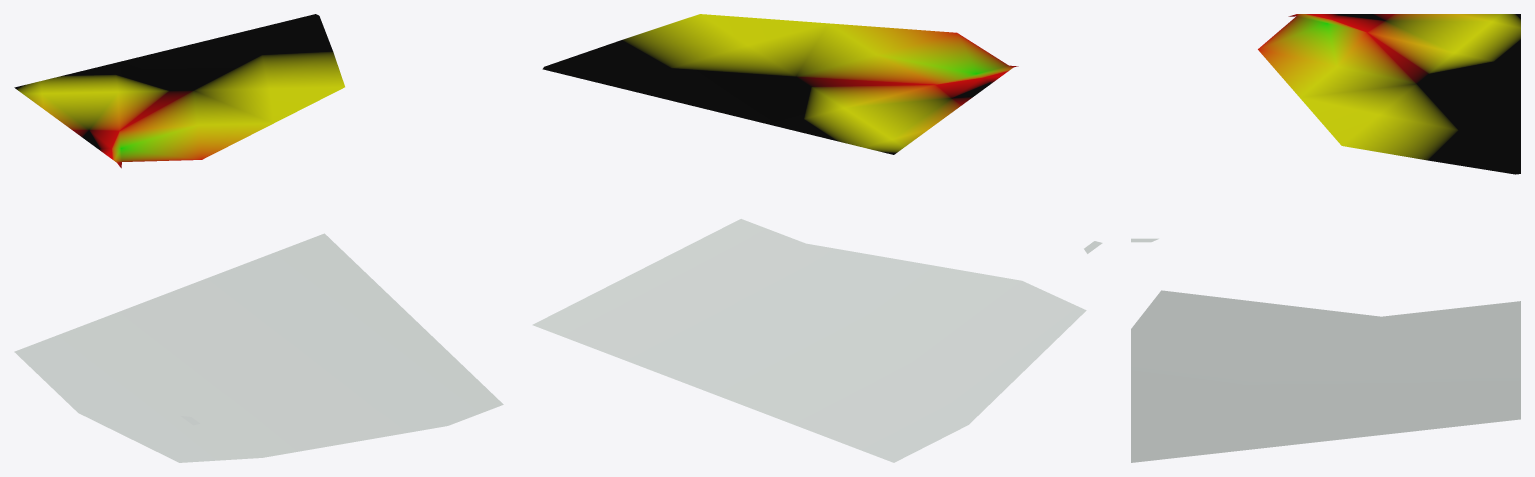
3 renders of one model, left to right at view 1: azimuth 30°, elevation 25°; view 2: azimuth 150°, elevation 25°; view 3: azimuth 270°, elevation 25°, orthographic. The views are drawn at different scales.
Parts seen in each view (by area): view 1: G:\FFXIV-MapTools\exports\g3f2\bg\ex2\01_gyr_g3\fld\g3f2\bgp (×2); view 2: G:\FFXIV-MapTools\exports\g3f2\bg\ex2\01_gyr_g3\fld\g3f2\bgp (×2); view 3: G:\FFXIV-MapTools\exports\g3f2\bg\ex2\01_gyr_g3\fld\g3f2\bgp (×2).
Boxes of the visible parts, x1,y1,x2,y2 form: G:\FFXIV-MapTools\exports\g3f2\bg\ex2\01_gyr_g3\fld\g3f2\bgp (×2): [14, 14, 503, 462]; G:\FFXIV-MapTools\exports\g3f2\bg\ex2\01_gyr_g3\fld\g3f2\bgp (×2): [532, 14, 1086, 462]; G:\FFXIV-MapTools\exports\g3f2\bg\ex2\01_gyr_g3\fld\g3f2\bgp (×2): [1131, 14, 1520, 462].
Bounding box in the file's own units: 128 × 110 × 128.
